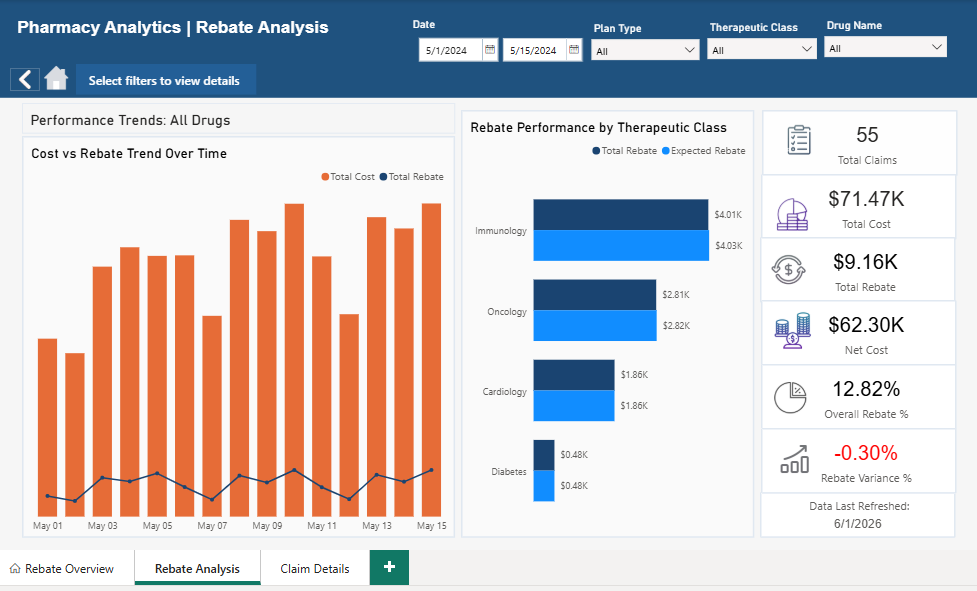

This screenshot's page, from the dashboard's own definition file:
{"tool":"powerbi","page":{"name":"Rebate Analysis","canvas":[1280,720],"ordinal":1},"visuals":[{"type":"shape","box":[0,0,1280.2,128.2],"z":0},{"type":"clusteredBarChart","title":"Rebate Performance by Therapeutic Class","fields":{"Category":["Drugs.Therapeutic_Class"],"Y":["Measures Table.Total Rebate","Measures Table.Expected Rebate"]},"box":[589,181.4,398.9,525.6],"z":1000},{"type":"lineClusteredColumnComboChart","title":"Cost vs Rebate Trend Over Time","fields":{"Category":["DateTable.Date"],"Y":["Measures Table.Total Cost","select"],"Y2":["Sum(Claims.Rebate_Amount)"]},"box":[28.8,181.4,551.5,525.6],"z":2000},{"type":"actionButton","box":[28.8,144,959,31.7],"z":3000},{"type":"slicer","fields":{"Values":["Drugs.Drug_Name"]},"box":[1069.9,20.2,180,57.6],"z":4000},{"type":"slicer","fields":{"Values":["Drugs.Therapeutic_Class"]},"box":[915.8,21.6,162.7,59],"z":5000},{"type":"slicer","fields":{"Values":["Plans.Plan_Type"]},"box":[764.6,23,161.3,60.5],"z":6000},{"type":"slicer","title":"Date","fields":{"Values":["Claims.Date"]},"box":[535.7,23,233.3,60.5],"z":7000},{"type":"image","box":[50.4,80.6,47.5,41.8],"z":8000},{"type":"group","id":"g1","title":"Group 7","box":[995,137.4,256.3,86.4],"z":9000},{"type":"card","title":"Data Last Refreshed:","fields":{"Values":["Min(RefreshDate.RefreshDate)"]},"box":[995,645.1,256.3,61.9],"z":10000},{"type":"group","id":"g2","title":"Group 2","box":[995,221.4,256.3,86.4],"z":11000},{"type":"group","id":"g3","title":"Group 3","box":[995,306.3,256.3,86.4],"z":12000},{"type":"group","id":"g4","title":"Group 4","box":[995,391.3,256,86],"z":13000},{"type":"card","title":"Rebate Variance  %","fields":{"Values":["Measures List.Rebate Variance %"]},"box":[995,560.7,256,86],"z":13000,"group":"g12"},{"type":"group","id":"g5","title":"Group 5","box":[995,474.8,256.3,86.4],"z":14000},{"type":"card","title":"Overall Rebate %","fields":{"Values":["Measures List.Rebate %"]},"box":[995,474.8,256.3,86.4],"z":14000,"group":"g11"},{"type":"card","title":"Net Cost","fields":{"Values":["Claims.Net Cost"]},"box":[995,391.3,256,86],"z":15000,"group":"g10"},{"type":"group","id":"g6","title":"Group 6","box":[995,560.7,256,86],"z":15000},{"type":"image","box":[13,89.3,38.9,30.2],"z":16000},{"type":"card","title":"Total Rebate","fields":{"Values":["Claims.Total Rebate"]},"box":[995,306.3,256.3,86.4],"z":16000,"group":"g9"},{"type":"group","id":"g7","title":"Group 14","box":[99.1,83.7,212.1,39],"z":17000},{"type":"card","title":"Total Cost","fields":{"Values":["Claims.Total Cost"]},"box":[995,221.4,256.3,86.4],"z":17000,"group":"g8"},{"type":"actionButton","box":[99.1,83.7,212.1,39],"z":19000,"group":"g7"},{"type":"card","title":"Total Claims","fields":{"Values":["Claims.Total Claims"]},"box":[995,137.4,256.3,86.4],"z":19000,"group":"g1"},{"type":"actionButton","box":[99.1,85.1,212.1,36.1],"z":19500,"group":"g7"},{"type":"group","id":"g8","title":"Group 8","box":[995,221.4,256.3,86.4],"z":23001,"group":"g2"},{"type":"group","id":"g9","title":"Group 9","box":[995,306.3,256.3,86.4],"z":23001,"group":"g3"},{"type":"group","id":"g10","title":"Group 10","box":[995,391.3,256,86],"z":23001,"group":"g4"},{"type":"group","id":"g11","title":"Group 11","box":[995,474.8,256.3,86.4],"z":23001,"group":"g5"},{"type":"group","id":"g12","title":"Group 12","box":[995,560.7,256,86],"z":23001,"group":"g6"},{"type":"image","box":[995,245.9,61.9,56.2],"z":24000,"group":"g8"},{"type":"image","box":[1009.4,495,47.5,49],"z":25000,"group":"g11"},{"type":"image","box":[1009.4,322.1,46.1,53.3],"z":26000,"group":"g9"},{"type":"image","box":[1012.3,405.7,49,50.4],"z":27000,"group":"g10"},{"type":"image","box":[1025,144.6,41.8,61.9],"z":28000,"group":"g1"},{"type":"image","box":[1012.2,580.3,54.7,41.8],"z":29000,"group":"g12"}]}

Visuals, with their boxes on the page's 1280x720 design canvas (x1, y1, x2, y2). These are canvas units, not pixel positions in the 977x591 screenshot, which may show the page scaled, cropped or inside an application window:
shape: pyautogui.locateOnScreen(0, 0, 1280, 128)
"Rebate Performance by Therapeutic Class" clusteredBarChart: pyautogui.locateOnScreen(589, 181, 988, 707)
"Cost vs Rebate Trend Over Time" lineClusteredColumnComboChart: pyautogui.locateOnScreen(29, 181, 580, 707)
actionButton: pyautogui.locateOnScreen(29, 144, 988, 176)
slicer - Drugs.Drug_Name: pyautogui.locateOnScreen(1070, 20, 1250, 78)
slicer - Drugs.Therapeutic_Class: pyautogui.locateOnScreen(916, 22, 1078, 81)
slicer - Plans.Plan_Type: pyautogui.locateOnScreen(765, 23, 926, 84)
"Date" slicer: pyautogui.locateOnScreen(536, 23, 769, 84)
image: pyautogui.locateOnScreen(50, 81, 98, 122)
"Group 7" group: pyautogui.locateOnScreen(995, 137, 1251, 224)
"Data Last Refreshed:" card: pyautogui.locateOnScreen(995, 645, 1251, 707)
"Group 2" group: pyautogui.locateOnScreen(995, 221, 1251, 308)
"Group 3" group: pyautogui.locateOnScreen(995, 306, 1251, 393)
"Group 4" group: pyautogui.locateOnScreen(995, 391, 1251, 477)
"Rebate Variance  %" card: pyautogui.locateOnScreen(995, 561, 1251, 647)
"Group 5" group: pyautogui.locateOnScreen(995, 475, 1251, 561)
"Overall Rebate %" card: pyautogui.locateOnScreen(995, 475, 1251, 561)
"Net Cost" card: pyautogui.locateOnScreen(995, 391, 1251, 477)
"Group 6" group: pyautogui.locateOnScreen(995, 561, 1251, 647)
image: pyautogui.locateOnScreen(13, 89, 52, 120)
"Total Rebate" card: pyautogui.locateOnScreen(995, 306, 1251, 393)
"Group 14" group: pyautogui.locateOnScreen(99, 84, 311, 123)
"Total Cost" card: pyautogui.locateOnScreen(995, 221, 1251, 308)
actionButton: pyautogui.locateOnScreen(99, 84, 311, 123)
"Total Claims" card: pyautogui.locateOnScreen(995, 137, 1251, 224)
actionButton: pyautogui.locateOnScreen(99, 85, 311, 121)
"Group 8" group: pyautogui.locateOnScreen(995, 221, 1251, 308)
"Group 9" group: pyautogui.locateOnScreen(995, 306, 1251, 393)
"Group 10" group: pyautogui.locateOnScreen(995, 391, 1251, 477)
"Group 11" group: pyautogui.locateOnScreen(995, 475, 1251, 561)
"Group 12" group: pyautogui.locateOnScreen(995, 561, 1251, 647)
image: pyautogui.locateOnScreen(995, 246, 1057, 302)
image: pyautogui.locateOnScreen(1009, 495, 1057, 544)
image: pyautogui.locateOnScreen(1009, 322, 1056, 375)
image: pyautogui.locateOnScreen(1012, 406, 1061, 456)
image: pyautogui.locateOnScreen(1025, 145, 1067, 206)
image: pyautogui.locateOnScreen(1012, 580, 1067, 622)
